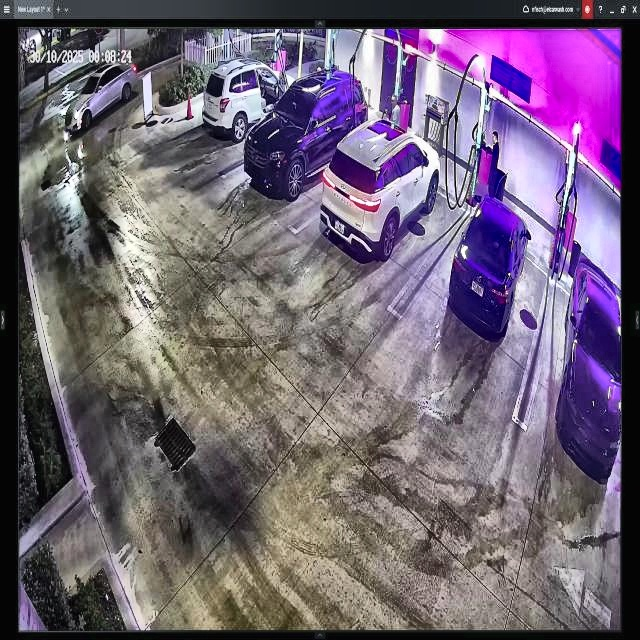Car: (323, 121, 441, 261), (244, 66, 369, 196), (450, 193, 528, 334), (202, 58, 296, 142)
